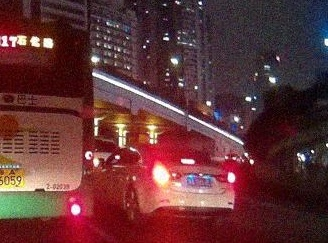L_light: (151, 162, 171, 190)
R_light: (227, 171, 236, 188)
T_light: (180, 158, 195, 165)
night-left: (137, 144, 236, 226)
